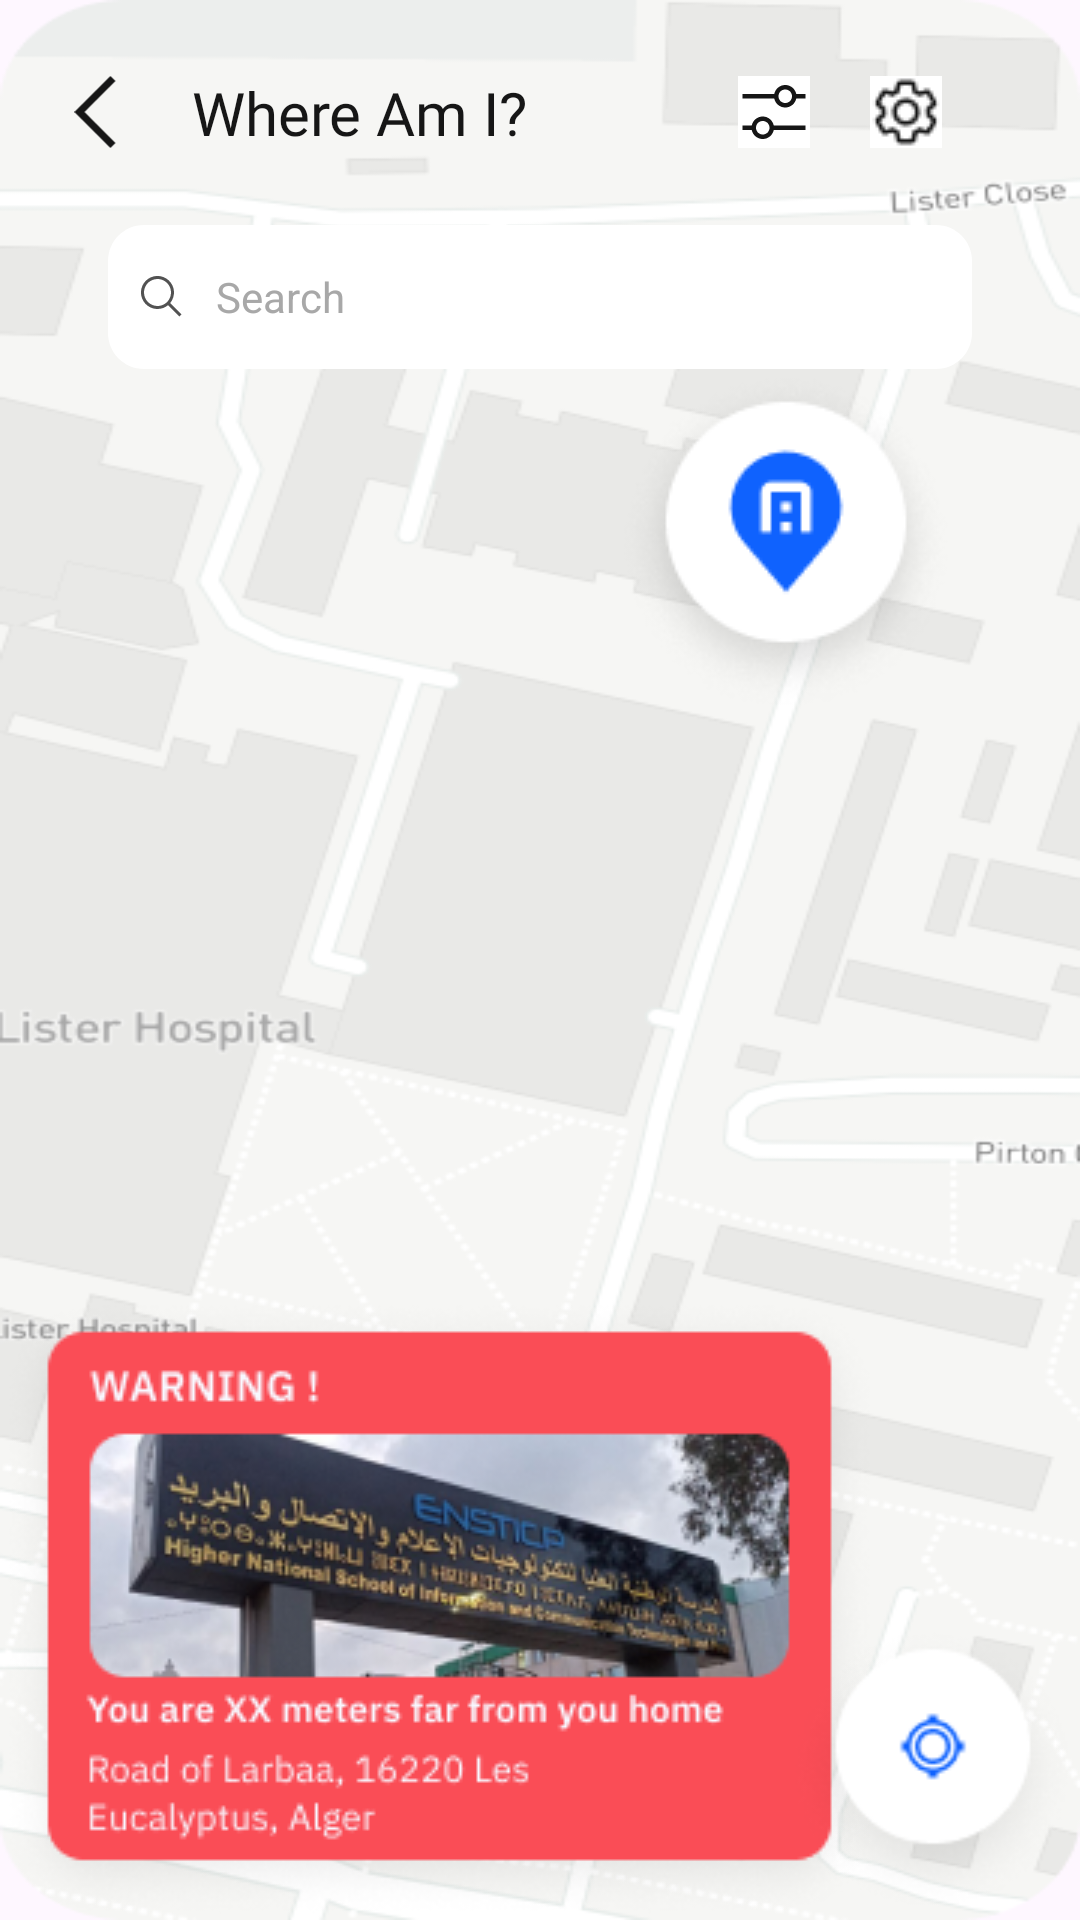

Point at icon controls on the screen. Image size 1080 × 1920, points as [x,y].
arrow: [95,112]
settings: [906,112]
